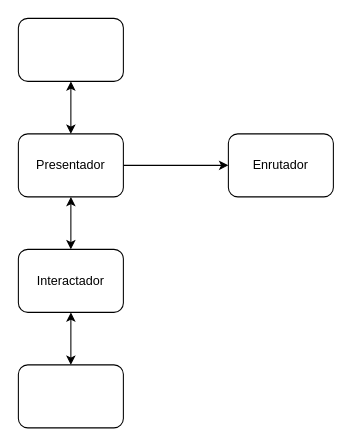
Image size: 352x446. Some labels were removed from this diagram. The shapes that lost their labels are listed below. From the top down, each one's centre as x and y in pixels, then its label:
the point at 70,49: Vista
the point at 70,396: Entidades
